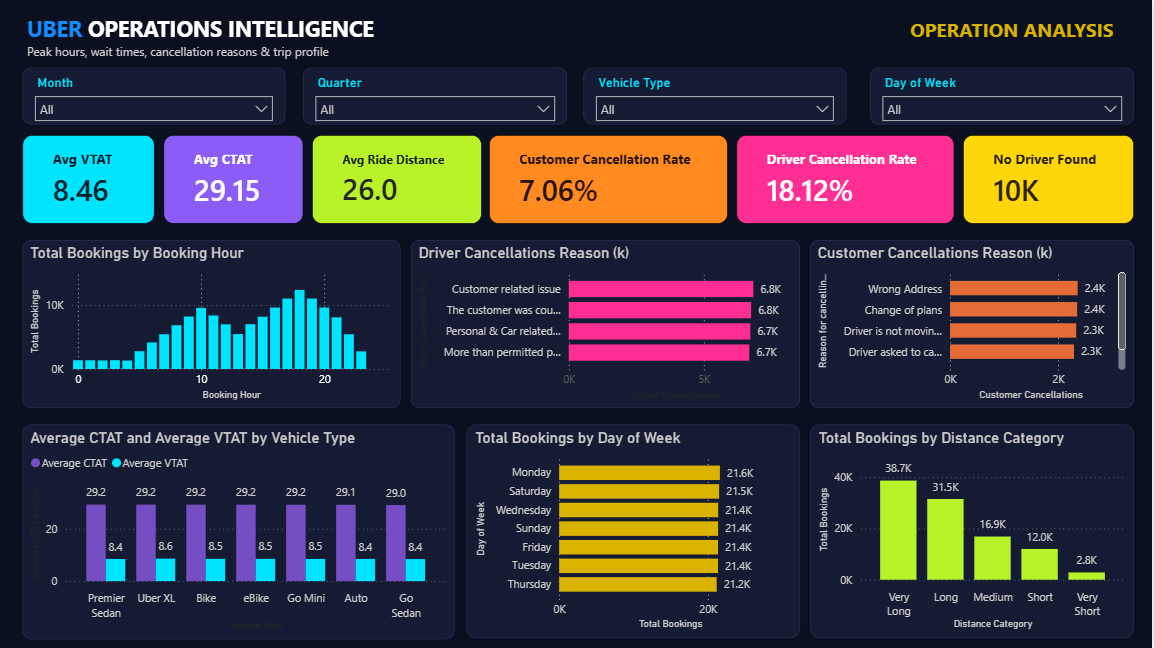

What the dashboard file says about the page in this screenshot:
{"tool":"powerbi","page":{"name":"Operations Analysis","canvas":[1280,720],"ordinal":1},"visuals":[{"type":"slicer","fields":{"Values":["uber_ride_data.Vehicle Type"]},"box":[648.3,75,291.7,63.3],"z":0},{"type":"slicer","fields":{"Values":["Calendar.Year Month"]},"box":[25,75,291.7,63.3],"z":1000},{"type":"slicer","fields":{"Values":["Calendar.Quarter"]},"box":[336.7,75,293.3,63.3],"z":2000},{"type":"slicer","fields":{"Values":["Calendar.Day of Week"]},"box":[966.7,75,293.3,63.3],"z":3000},{"type":"cardVisual","fields":{"Data":["uber_ride_data.Average VTAT"]},"box":[25,150,146.7,98.3],"z":4000},{"type":"cardVisual","fields":{"Data":["uber_ride_data.Average CTAT"]},"box":[181.3,150,155,98.3],"z":5000},{"type":"cardVisual","fields":{"Data":["uber_ride_data.Avg Completed Ride Distance"]},"box":[346,150,188.3,98.3],"z":6000},{"type":"cardVisual","fields":{"Data":["uber_ride_data.Customer Cancellation Rate"]},"box":[544,150,265,98.3],"z":7000},{"type":"cardVisual","fields":{"Data":["uber_ride_data.Driver Cancellation Rate"]},"box":[818.7,150,241.7,98.3],"z":8000},{"type":"cardVisual","fields":{"Data":["uber_ride_data.No Driver Found"]},"box":[1070,150,190,98.3],"z":9000},{"type":"clusteredColumnChart","fields":{"Category":["uber_ride_data.Booking Hour"],"Y":["uber_ride_data.Total Bookings"]},"box":[25,266.7,420,186.7],"z":10000},{"type":"clusteredBarChart","title":"Driver Cancellations Reason (k)","fields":{"Category":["uber_ride_data.Driver Cancellation Reason"],"Y":["uber_ride_data.Driver Cancellations"]},"box":[456.7,266.7,431.7,186.7],"z":11000},{"type":"clusteredBarChart","title":"Customer Cancellations Reason (k)","fields":{"Category":["uber_ride_data.Reason for cancelling by Customer"],"Y":["uber_ride_data.Customer Cancellations"]},"box":[900,266.7,360,186.7],"z":12000},{"type":"clusteredColumnChart","fields":{"Category":["uber_ride_data.Vehicle Type"],"Y":["uber_ride_data.Average CTAT","uber_ride_data.Average VTAT"]},"box":[25,471.7,480,238.3],"z":13000},{"type":"clusteredBarChart","fields":{"Category":["Calendar.Day of Week"],"Y":["uber_ride_data.Total Bookings"]},"box":[517.8,471.8,370.7,237.4],"z":14000},{"type":"clusteredColumnChart","fields":{"Category":["uber_ride_data.Distance Category"],"Y":["uber_ride_data.Total Bookings"]},"box":[899.2,471.8,360,237.4],"z":15000},{"type":"textbox","box":[24.5,10.7,1234.7,64.3],"z":16000}]}

Visuals, with their boxes in screenshot pixels (x1, y1, x2, y2), scaled from the page's 1280x720 canvas onto the 1154x648 screenshot:
slicer - uber_ride_data.Vehicle Type: <box>584,68,847,124</box>
slicer - Calendar.Year Month: <box>23,68,286,124</box>
slicer - Calendar.Quarter: <box>304,68,568,124</box>
slicer - Calendar.Day of Week: <box>872,68,1136,124</box>
cardVisual - uber_ride_data.Average VTAT: <box>23,135,155,223</box>
cardVisual - uber_ride_data.Average CTAT: <box>163,135,303,223</box>
cardVisual - uber_ride_data.Avg Completed Ride Distance: <box>312,135,482,223</box>
cardVisual - uber_ride_data.Customer Cancellation Rate: <box>490,135,729,223</box>
cardVisual - uber_ride_data.Driver Cancellation Rate: <box>738,135,956,223</box>
cardVisual - uber_ride_data.No Driver Found: <box>965,135,1136,223</box>
clusteredColumnChart - uber_ride_data.Booking Hour x uber_ride_data.Total Bookings: <box>23,240,401,408</box>
"Driver Cancellations Reason (k)" clusteredBarChart: <box>412,240,801,408</box>
"Customer Cancellations Reason (k)" clusteredBarChart: <box>811,240,1136,408</box>
clusteredColumnChart - uber_ride_data.Vehicle Type x uber_ride_data.Average CTAT: <box>23,425,455,639</box>
clusteredBarChart - Calendar.Day of Week x uber_ride_data.Total Bookings: <box>467,425,801,638</box>
clusteredColumnChart - uber_ride_data.Distance Category x uber_ride_data.Total Bookings: <box>811,425,1135,638</box>
textbox: <box>22,10,1135,68</box>
